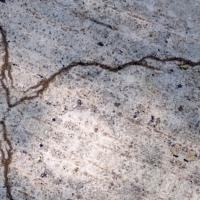crack: (0, 23, 199, 193)
